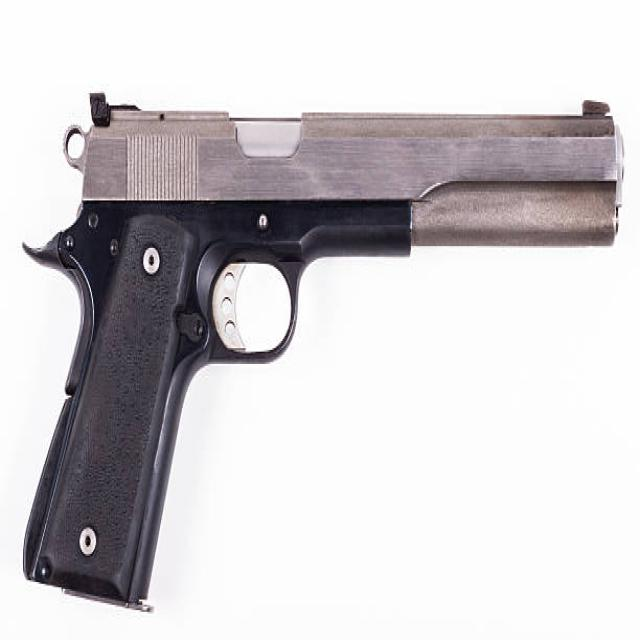pistol: (17, 78, 633, 623)
